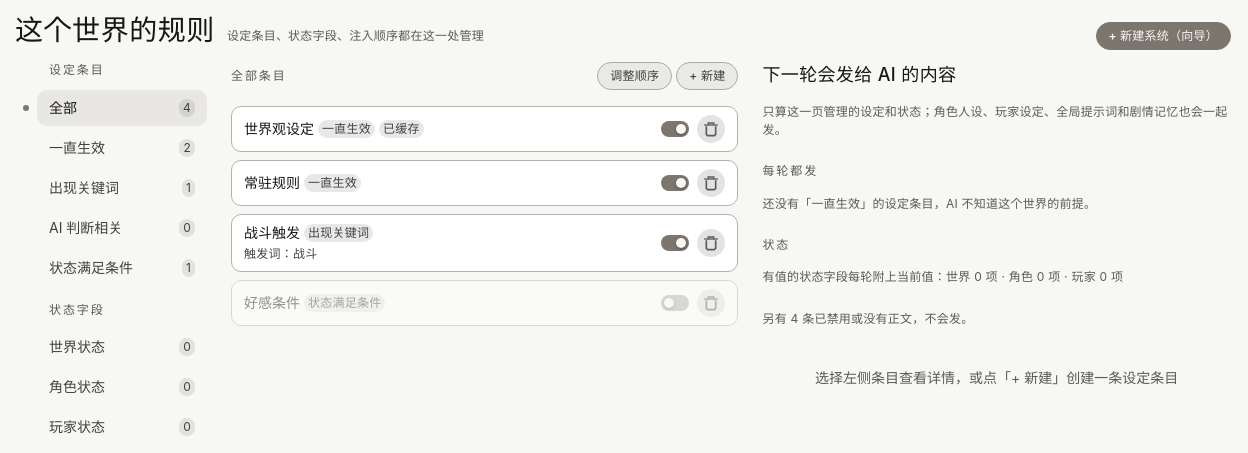
it: RulesPage › 点击机制后中栏只显示该机制条目，不受旧手动分组影响
Click the button with test id "nav-entries-always".
click(122, 148)  # box 37,130 -> 207,166
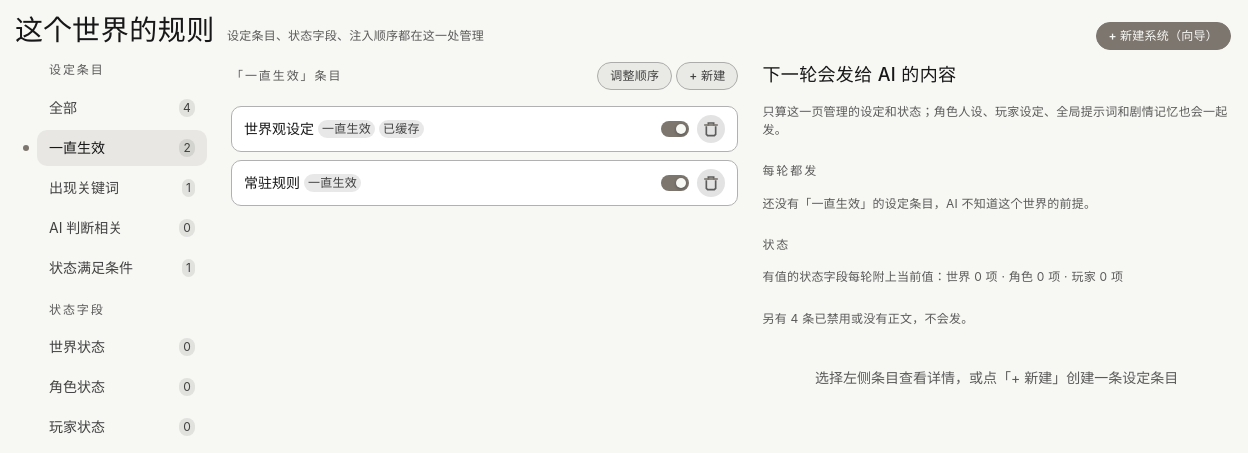
Expected: the text "世界观设定" is shown, 244,119 -> 314,139
Now the button "战斗触发" is gone
Now the button "好感条件" is gone
